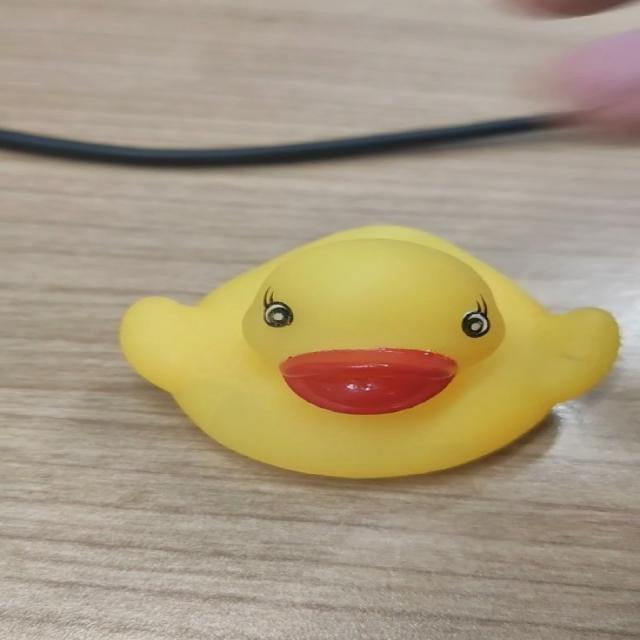rubber-duck: (119, 224, 617, 476)
